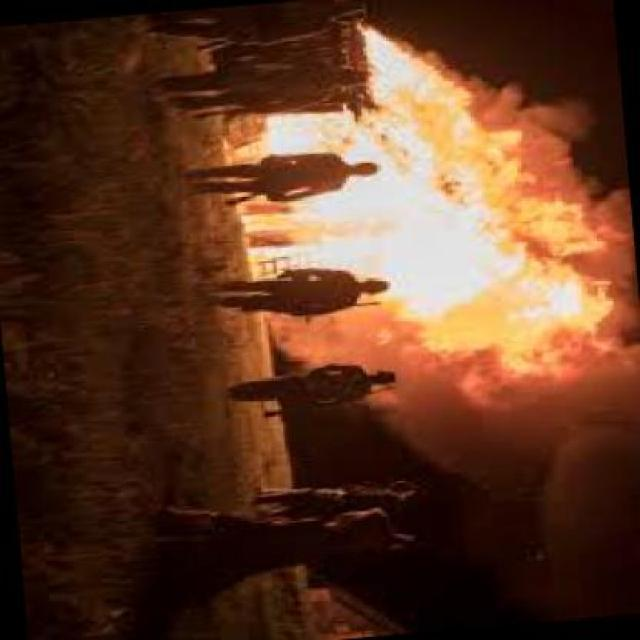Fire: (378, 218, 640, 370), (350, 78, 568, 230)
Smoke: (364, 369, 640, 583)
